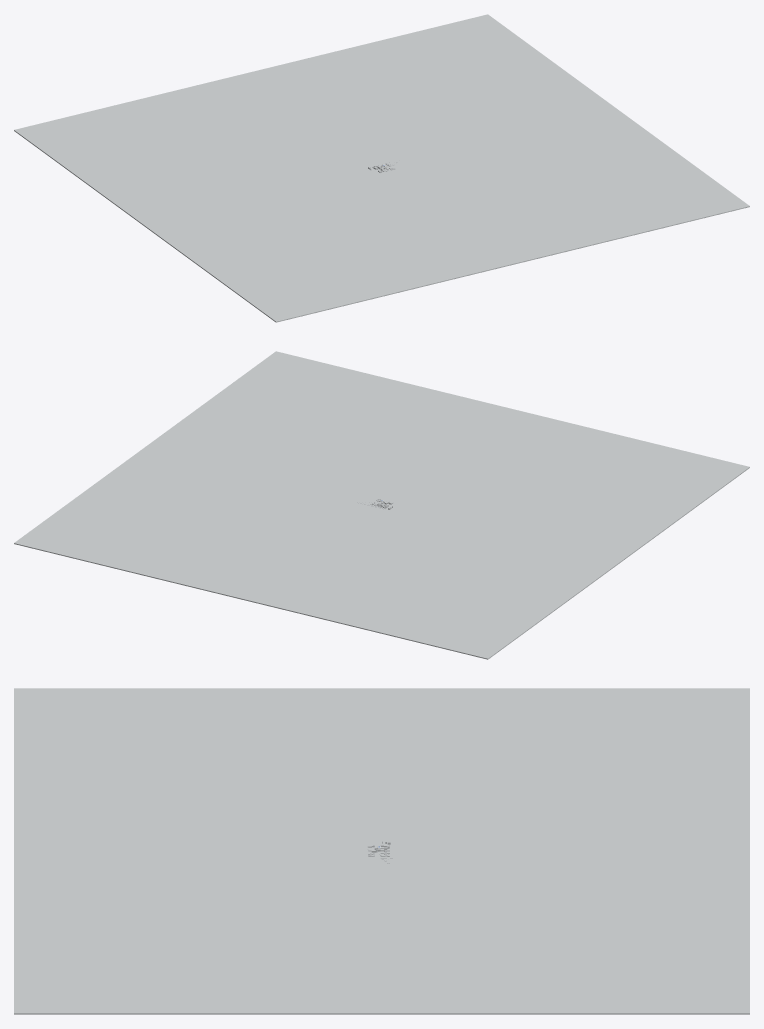
Rendered from BG_boxes_v3.glb.
The picture shows the model from 3 angles, top to bottom: view 1: azimuth 30°, elevation 25°; view 2: azimuth 150°, elevation 25°; view 3: azimuth 270°, elevation 25°; orthographic projection. The views are drawn at different scales.
Parts seen in each view (by area): view 1: Boxes; view 2: Boxes; view 3: Boxes, Boxes v1.
Part boxes in pixels (box(x1,y1,x2,y2)): Boxes: box(14, 14, 749, 322); Boxes: box(14, 351, 749, 659); Boxes: box(14, 688, 749, 1014); Boxes v1: box(349, 838, 410, 864).
Bounding box in the file's own units: 499 × 8.65 × 478.
Materials: 2 (1 with a texture image).
